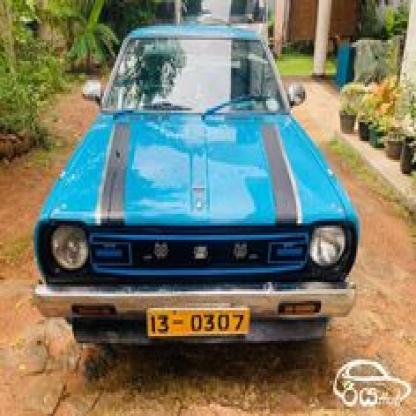car front: (34, 18, 360, 358)
number plate: (148, 305, 245, 333)
